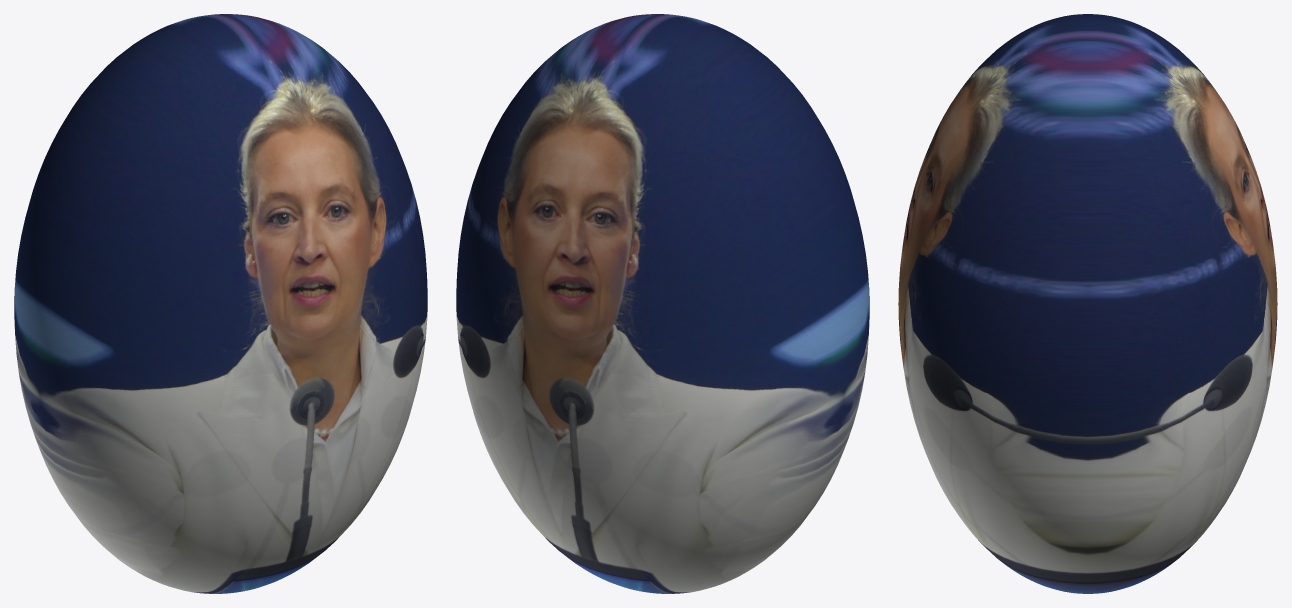
The picture shows the model from 3 angles, left to right: view 1: azimuth 30°, elevation 25°; view 2: azimuth 150°, elevation 25°; view 3: azimuth 270°, elevation 25°; orthographic projection.
Parts seen in each view (by area): view 1: head; view 2: head; view 3: head.
Boxes of the visible parts, left/top/right/bottom form: head: left=14, top=14, right=427, bottom=593; head: left=456, top=14, right=869, bottom=593; head: left=898, top=14, right=1277, bottom=593.
Bounding box in the file's own units: 1.38 × 2 × 1.24.
Materials: 1 (1 with a texture image).
